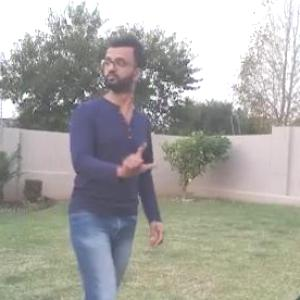land_hand: (120, 129, 160, 183)
